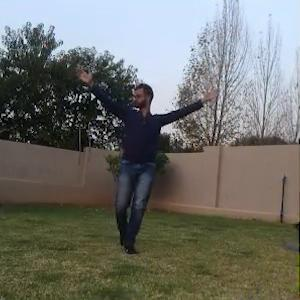takeoff: (70, 64, 217, 248)
